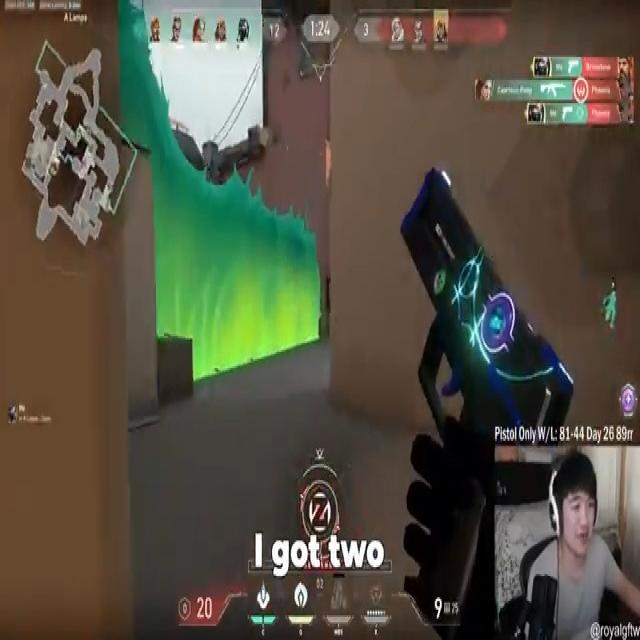ally behind wall: (602, 288, 619, 331)
